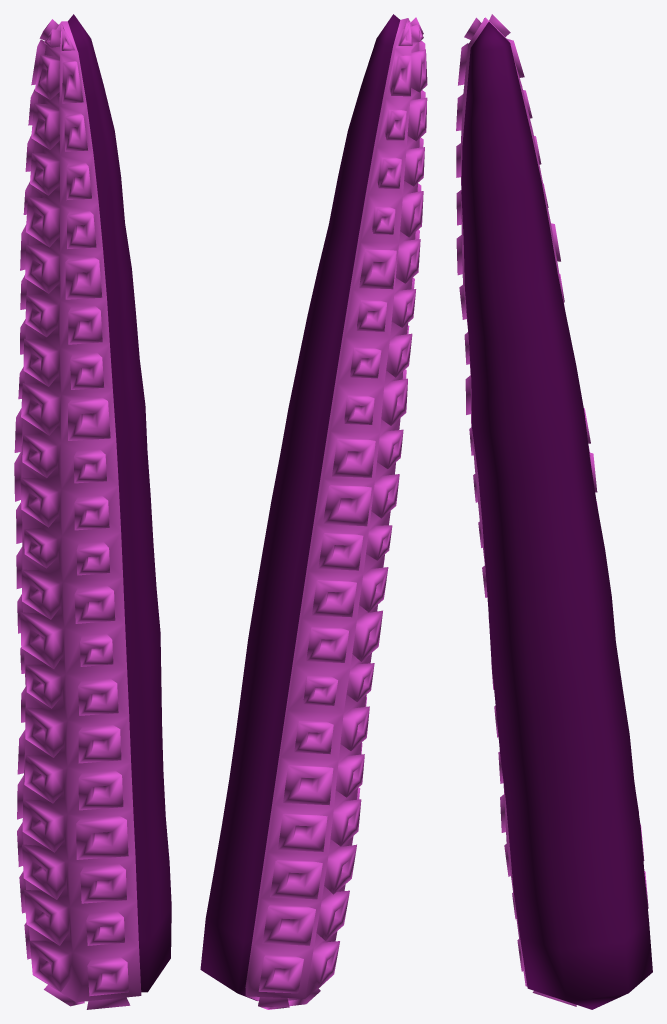
The model's file is tentacule1.fbx.
3 views of the same model, side by side, from view 1: azimuth 30°, elevation 25°; view 2: azimuth 150°, elevation 25°; view 3: azimuth 270°, elevation 25° (orthographic). The views are drawn at different scales.
Parts seen in each view (by area): view 1: tentacule010; view 2: tentacule010; view 3: tentacule010.
Boxes of the visible parts, x1,y1,x2,y2 form: tentacule010: (14, 14, 171, 1009); tentacule010: (200, 14, 427, 1009); tentacule010: (456, 14, 652, 1009).
Bounding box in the file's own units: 43.95 × 253 × 47.53.
